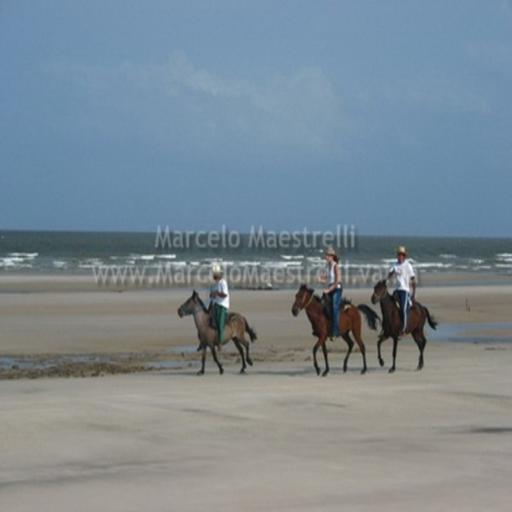Horse: (293, 270, 381, 372), (178, 288, 260, 375), (371, 276, 441, 374)
